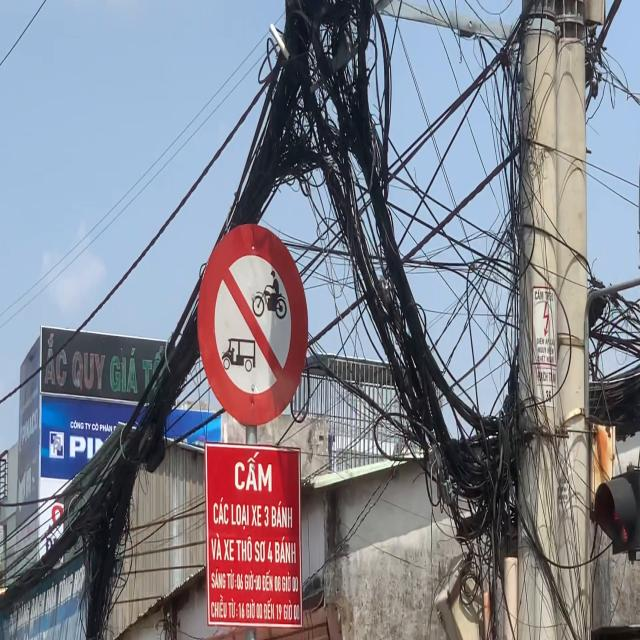Cam con lai: (194, 223, 309, 428)
